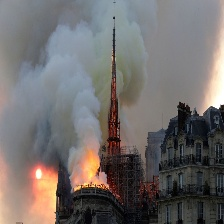smoke: (1, 1, 174, 212)
